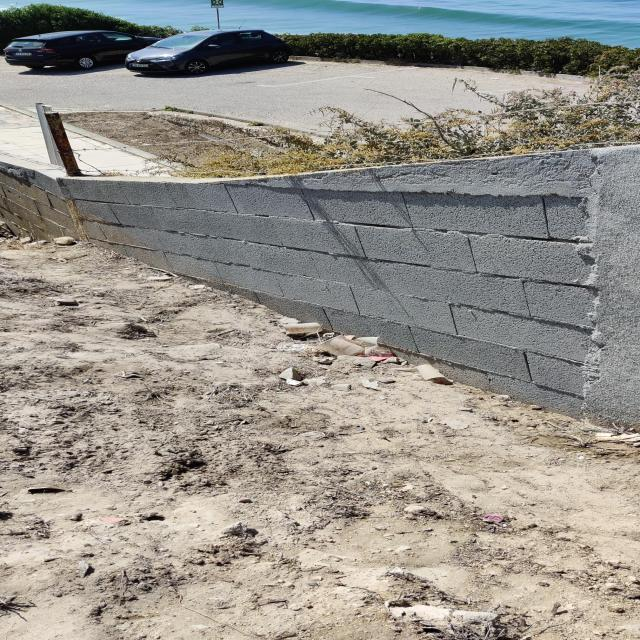litter: (273, 319, 462, 389)
